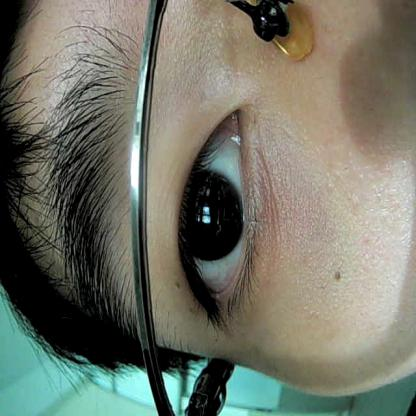Straight: (163, 98, 281, 329)
